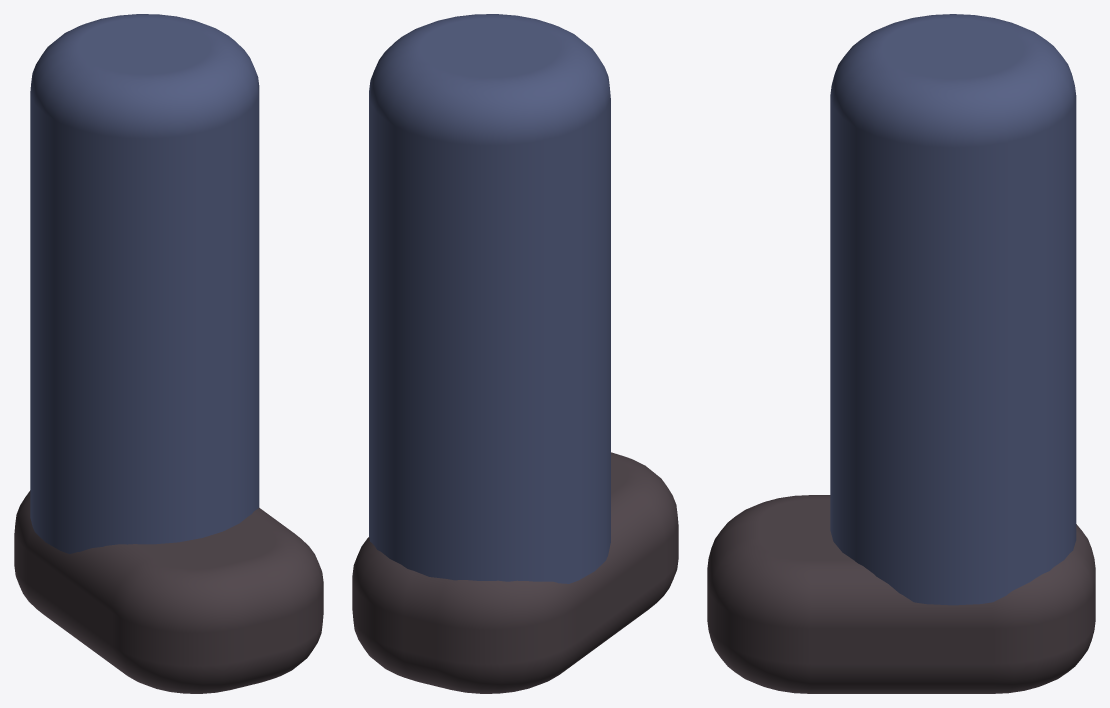
The model's file is CharLeg.glb.
3 renders of one model, left to right at view 1: azimuth 30°, elevation 25°; view 2: azimuth 150°, elevation 25°; view 3: azimuth 270°, elevation 25°, orthographic. The views are drawn at different scales.
Visible parts, largest first — view 1: pantsNavy, shoeDark; view 2: pantsNavy, shoeDark; view 3: pantsNavy, shoeDark.
Boxes of the visible parts, x1=… form: pantsNavy: x1=30, y1=14, x2=259, y2=553; shoeDark: x1=14, y1=490, x2=323, y2=693; pantsNavy: x1=369, y1=14, x2=610, y2=583; shoeDark: x1=352, y1=452, x2=678, y2=693; pantsNavy: x1=830, y1=14, x2=1076, y2=605; shoeDark: x1=707, y1=495, x2=1095, y2=693.
Size of the model in its own units: 0.19 by 0.52 by 0.3.
